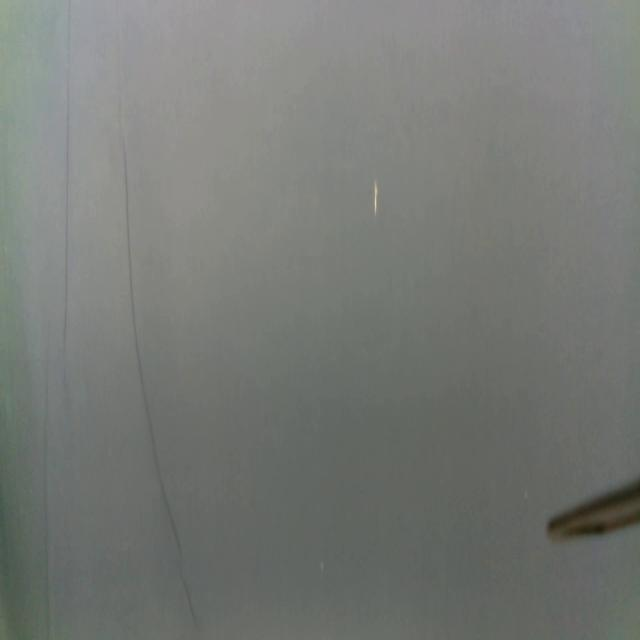crease: (121, 143, 199, 627), (63, 0, 73, 359), (41, 370, 53, 640)
hole: (372, 178, 380, 222)
